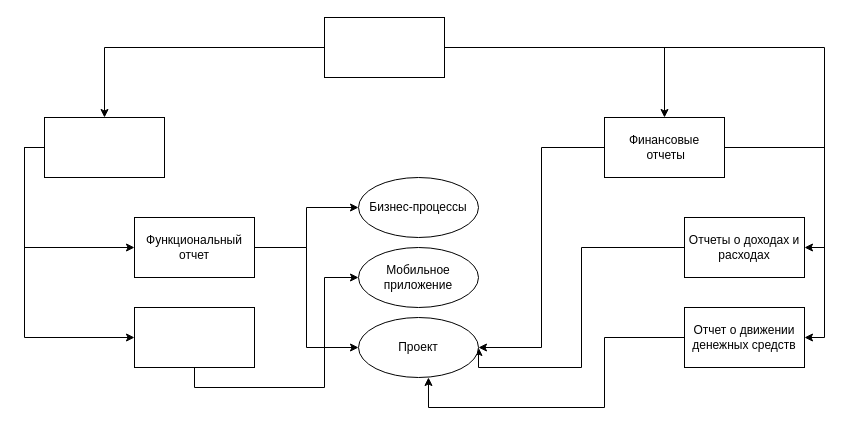
The diagram is 850 pixels wide and 433 high, and some of its shapes have lost their labels. Each missing label, with the centre of its shape:
Интеграционный отчет: the point at 194,337
Операционные отчеты: the point at 104,147
Отчеты: the point at 384,47
